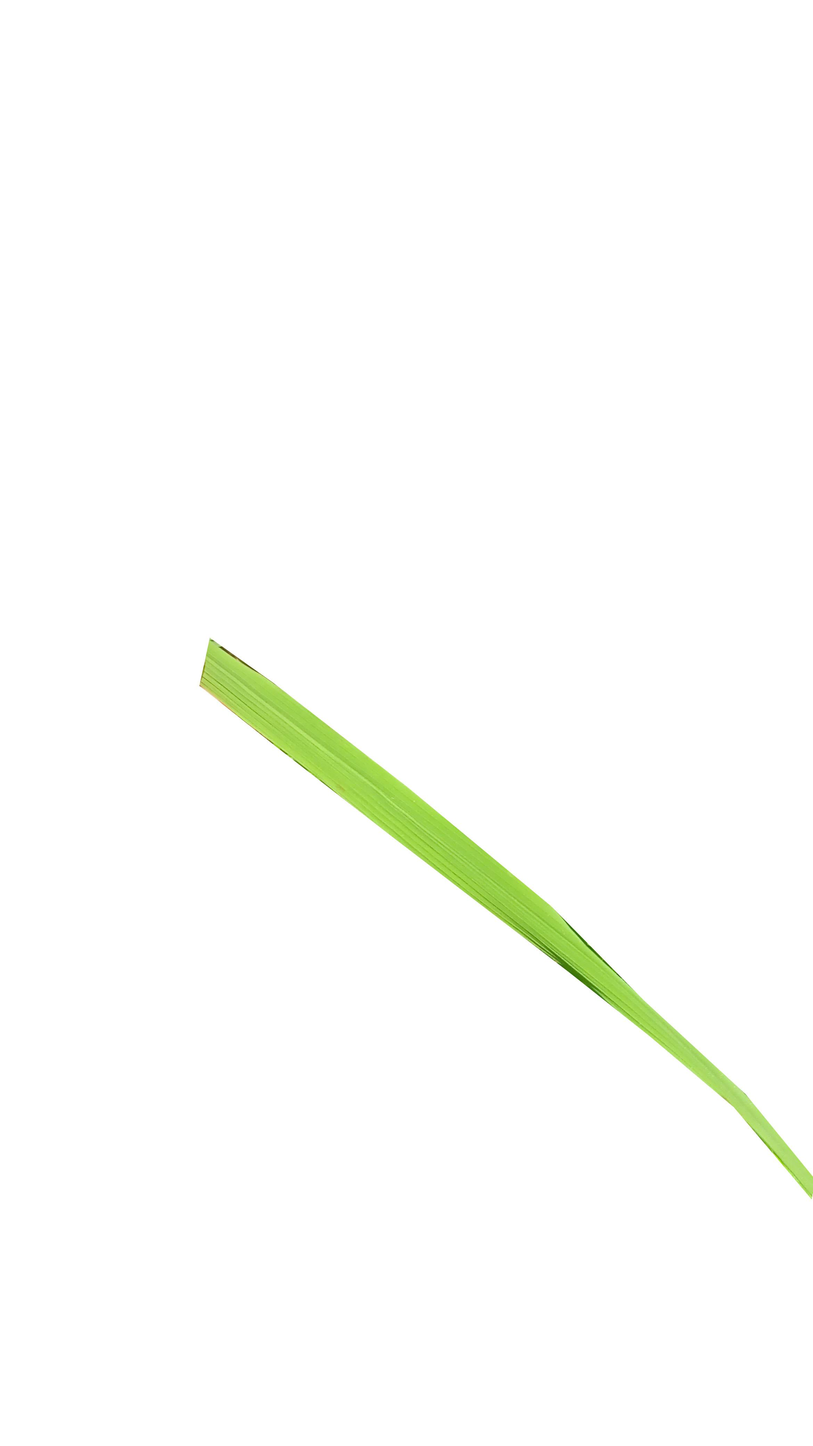Tungro: (197, 641, 813, 1211)
